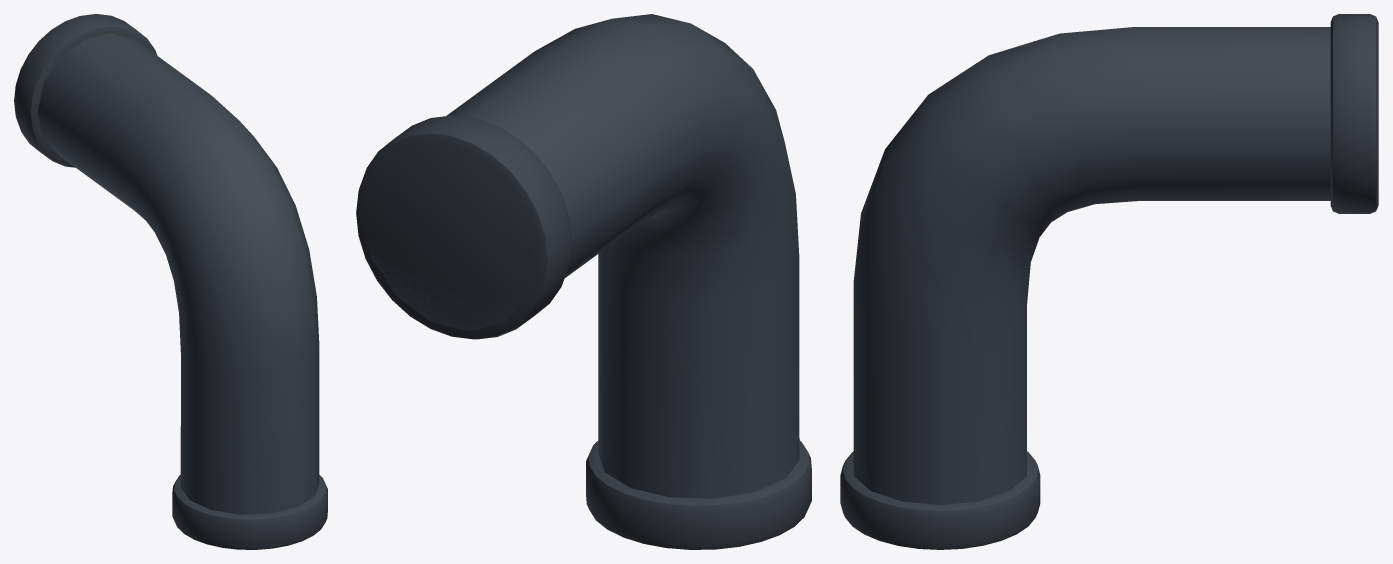
The model's file is tubo_chamine_cotovelo.glb.
3 views of the same model, side by side, from view 1: azimuth 30°, elevation 25°; view 2: azimuth 150°, elevation 25°; view 3: azimuth 270°, elevation 25° (orthographic). The views are drawn at different scales.
Parts seen in each view (by area): view 1: tubo_chamine_cotovelo; view 2: tubo_chamine_cotovelo; view 3: tubo_chamine_cotovelo.
Boxes of the visible parts, <box> form: tubo_chamine_cotovelo: <box>14,14,327,549</box>; tubo_chamine_cotovelo: <box>356,14,811,549</box>; tubo_chamine_cotovelo: <box>840,14,1378,549</box>.
Bounding box in the file's own units: 0.146 × 0.393 × 0.393.
Materials: 1 (1 with a texture image).
